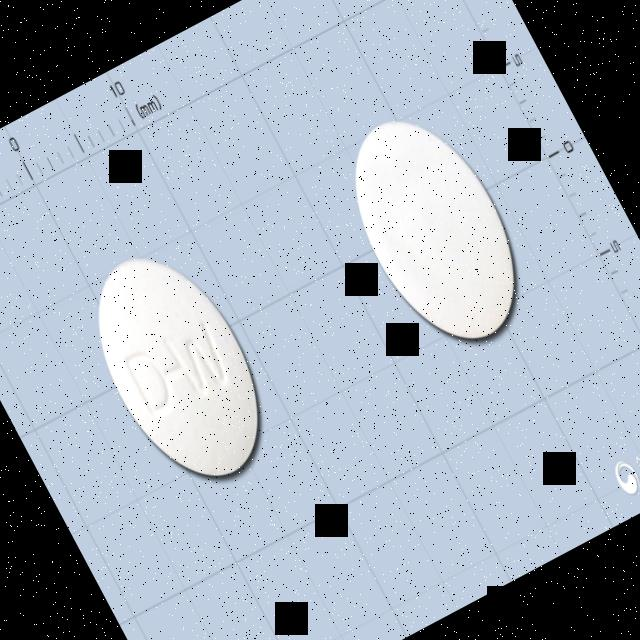Cipoxacin: (61, 226, 296, 508)
